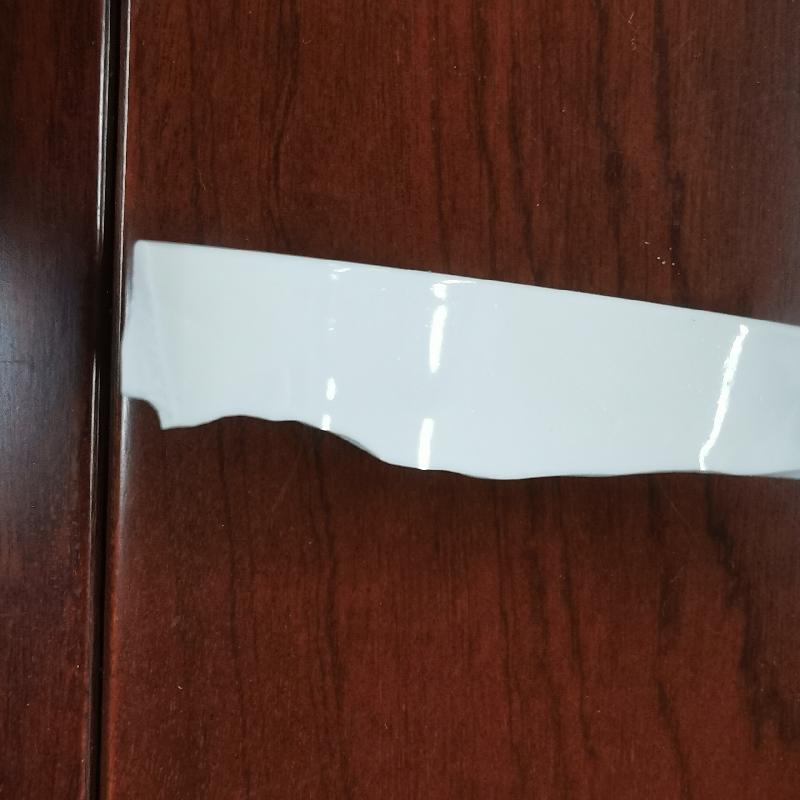ceram: (120, 229, 800, 494)
